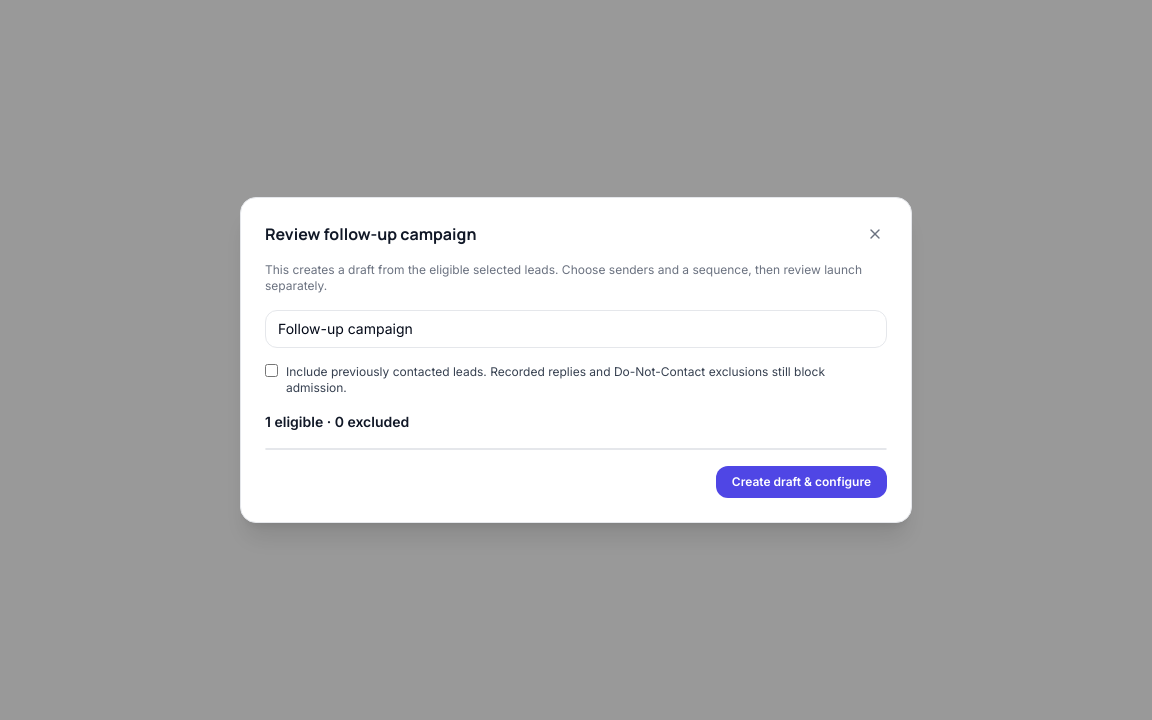
Test case: Canonical lead tags and reviewed draft controls › retries the same draft request after acknowledgement loss and never calls launch
Later steps or results of the test are not shown.
Click the button "Create draft & configure": (801, 482) [716,466,887,498]
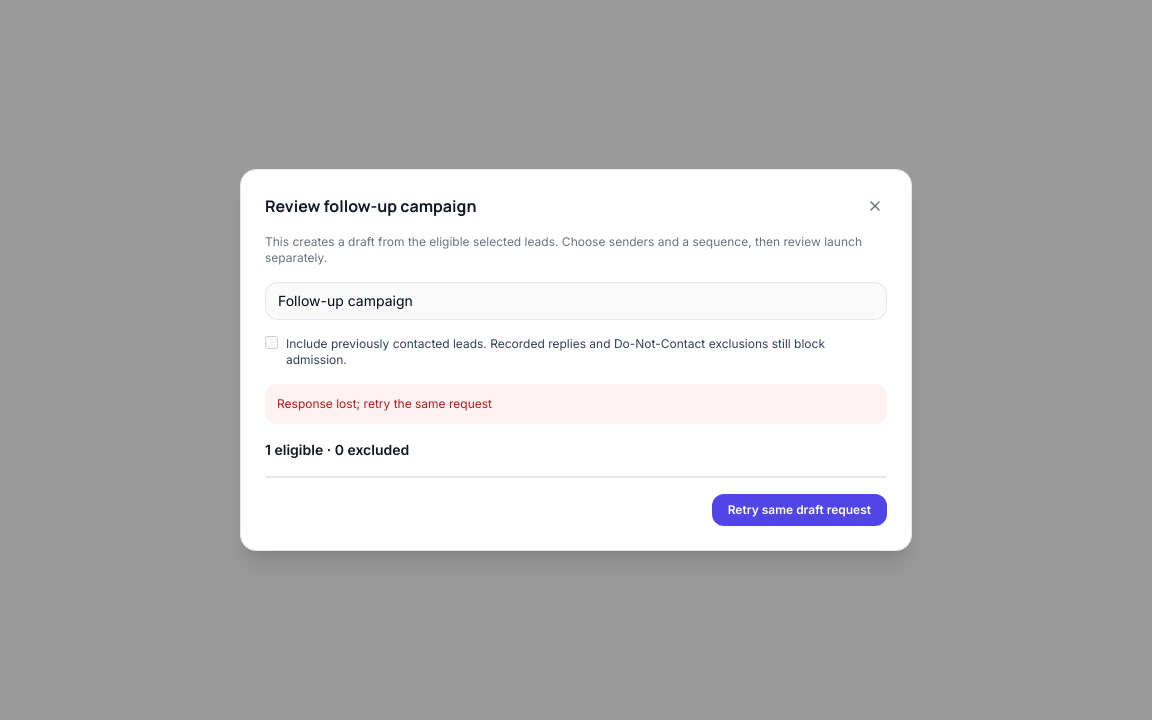
Check: the field named "Follow-up campaign name" is disabled, box [265,282,887,320]
